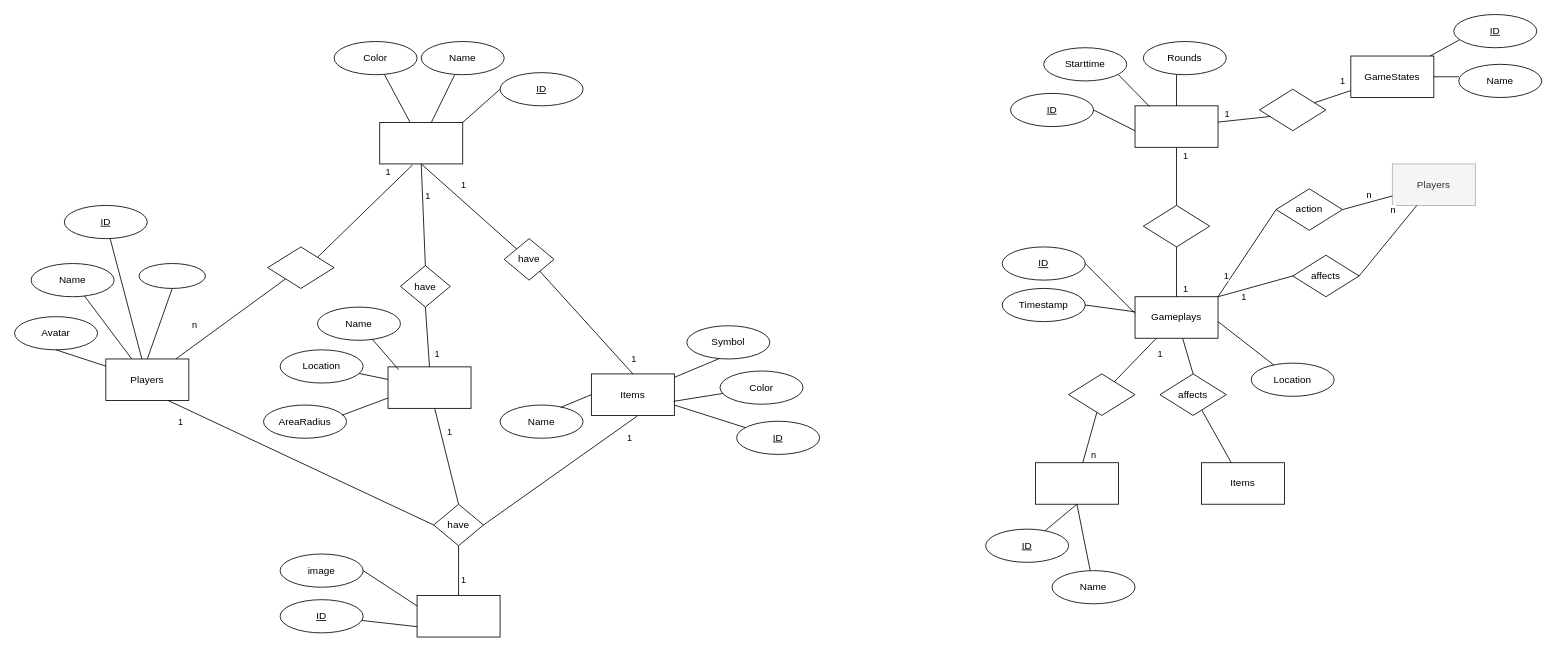
Some shapes in this 1556 by 652 pixel diagram are drawn without their labels. Here are the shapes that lost their labels. From the top down, the centre of each, then its label:
At pixel 1176 126: "Games".
At pixel 1292 109: "has".
At pixel 421 143: "Teams".
At pixel 1176 226: "have active".
At pixel 171 275: "Birthdate".
At pixel 300 267: "are part of".
At pixel 429 387: "Facilities".
At pixel 1101 394: "causes".
At pixel 1076 483: "Events".
At pixel 458 616: "QR-Codes".
